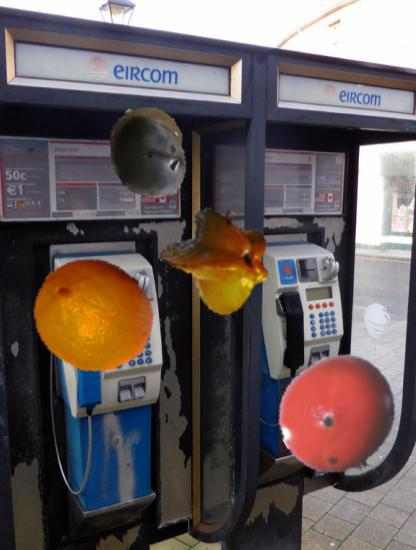Carambula: (166, 205, 274, 313)
Kaki: (278, 355, 400, 477)
Kiwi: (110, 105, 183, 178)
Lemon: (33, 254, 155, 376)
Plum: (102, 110, 196, 204)
